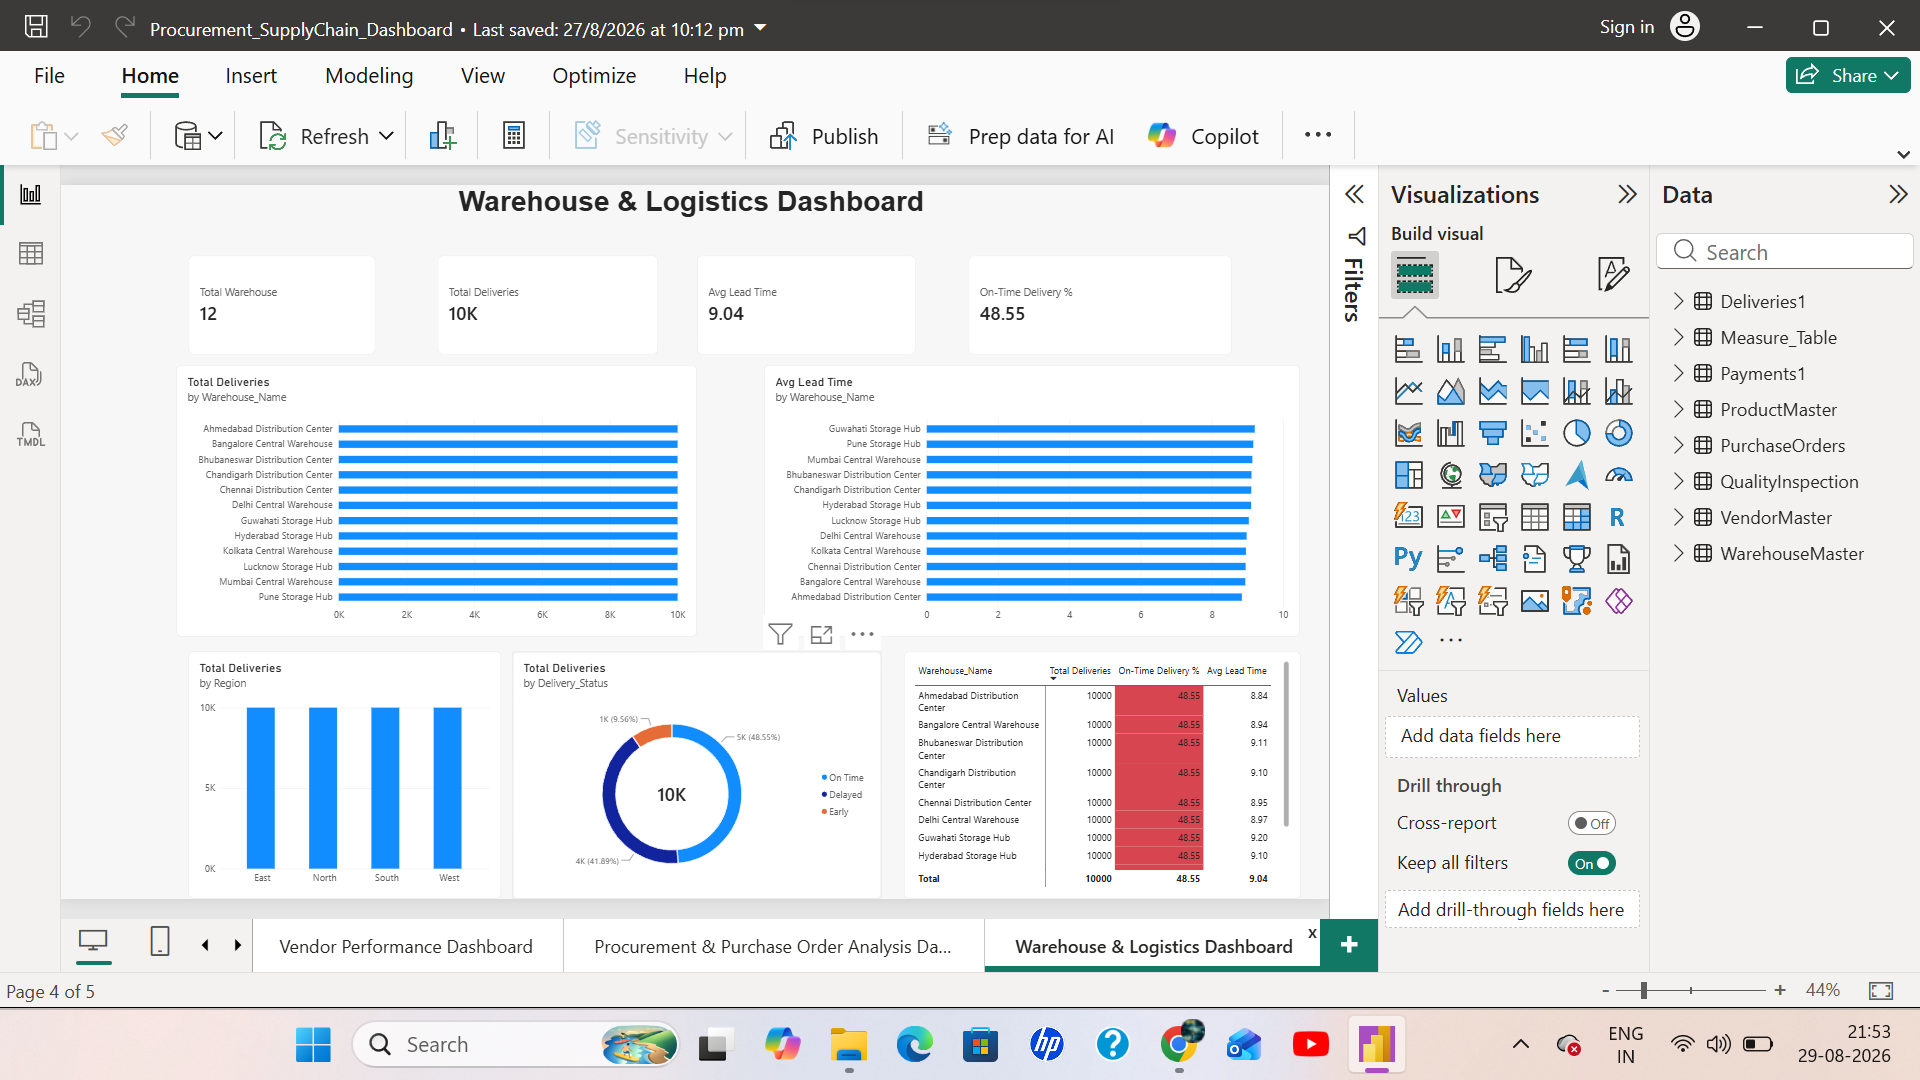

The page's visual inventory and layout, read from the dashboard file:
{"tool":"powerbi","page":{"name":"Warehouse & Logistics Dashboard","canvas":[1920,1080],"ordinal":3},"visuals":[{"type":"cardVisual","fields":{"Data":["Measure_Table.Total Warehouse"]},"box":[192.8,107.7,283.5,150.2],"z":0},{"type":"cardVisual","fields":{"Data":["Measure_Table.Total Deliveries"]},"box":[569.8,107.7,334.5,150.2],"z":1},{"type":"cardVisual","fields":{"Data":["Deliveries1.Avg Lead Time"]},"box":[963.8,107.7,331.7,150.2],"z":2},{"type":"cardVisual","fields":{"Data":["Measure_Table.On-Time Delivery %"]},"box":[1374.8,107.7,399.7,150.2],"z":3},{"type":"barChart","fields":{"Category":["WarehouseMaster.Warehouse_Name"],"Y":["Measure_Table.Total Deliveries"]},"box":[175.7,272.1,788,411],"z":4},{"type":"barChart","fields":{"Category":["WarehouseMaster.Warehouse_Name"],"Y":["Deliveries1.Avg Lead Time"]},"box":[1065.8,272.1,810.7,411],"z":5},{"type":"columnChart","fields":{"Category":["VendorMaster.Region"],"Y":["Measure_Table.Total Deliveries"]},"box":[192.8,705.8,473.4,374.2],"z":6},{"type":"donutChart","fields":{"Category":["Deliveries1.Delivery_Status"],"Y":["Measure_Table.Total Deliveries"]},"box":[683.2,705.8,558.4,374.2],"z":7},{"type":"pivotTable","fields":{"Rows":["WarehouseMaster.Warehouse_Name"],"Values":["Measure_Table.Total Deliveries","Measure_Table.On-Time Delivery %","Deliveries1.Avg Lead Time"]},"box":[1275.6,705.8,600.9,374.2],"z":8},{"type":"textbox","box":[0,706,473,374],"z":9},{"type":"textbox","box":[334.5,0,1241.6,184.3],"z":10}]}

Visuals, with their boxes on the page's 1920x1080 design canvas (x1, y1, x2, y2). These are canvas units, not pixel positions in the 1920x1080 screenshot, which may show the page scaled, cropped or inside an application window:
cardVisual - Measure_Table.Total Warehouse: (left=193, top=108, right=476, bottom=258)
cardVisual - Measure_Table.Total Deliveries: (left=570, top=108, right=904, bottom=258)
cardVisual - Deliveries1.Avg Lead Time: (left=964, top=108, right=1296, bottom=258)
cardVisual - Measure_Table.On-Time Delivery %: (left=1375, top=108, right=1774, bottom=258)
barChart - WarehouseMaster.Warehouse_Name x Measure_Table.Total Deliveries: (left=176, top=272, right=964, bottom=683)
barChart - WarehouseMaster.Warehouse_Name x Deliveries1.Avg Lead Time: (left=1066, top=272, right=1876, bottom=683)
columnChart - VendorMaster.Region x Measure_Table.Total Deliveries: (left=193, top=706, right=666, bottom=1080)
donutChart - Deliveries1.Delivery_Status x Measure_Table.Total Deliveries: (left=683, top=706, right=1242, bottom=1080)
pivotTable - WarehouseMaster.Warehouse_Name x Measure_Table.Total Deliveries: (left=1276, top=706, right=1876, bottom=1080)
textbox: (left=0, top=706, right=473, bottom=1080)
textbox: (left=334, top=0, right=1576, bottom=184)
